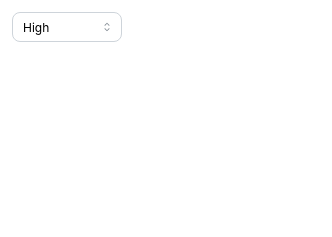
EffortPicker › shows the level of the task, and sends the level picked
Later steps or results of the test are not shown.
What coordinates should you click on to do the following:
click the dropdown named "Effort"
I would click on:
 (67, 27)
Its box is [12,12,122,42].
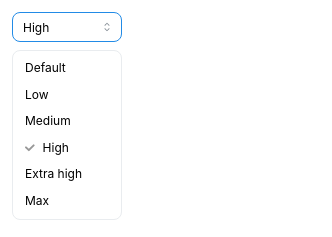
Expected: the options read "Default", "Low", "Medium", "High", "Extra high", "Max", in this order, [25,60,66,75]; [25,87,49,102]; [25,113,71,128]; [25,140,69,155]; [25,166,82,181]; [25,193,49,208]
